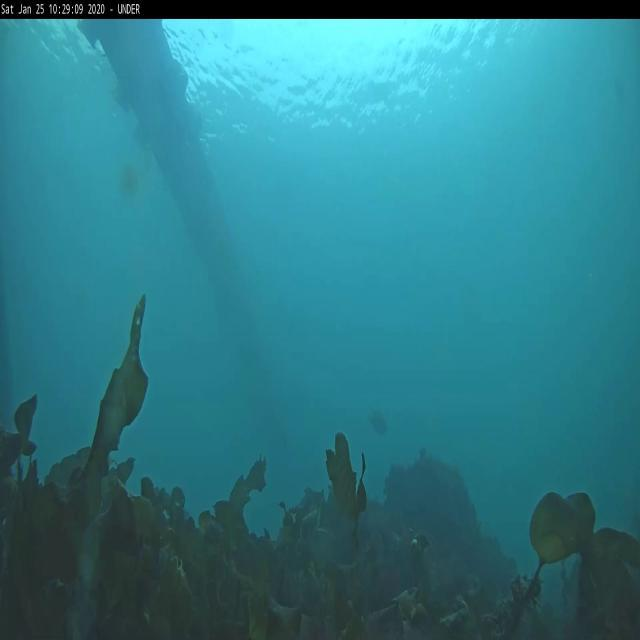fish: (368, 402, 386, 437)
